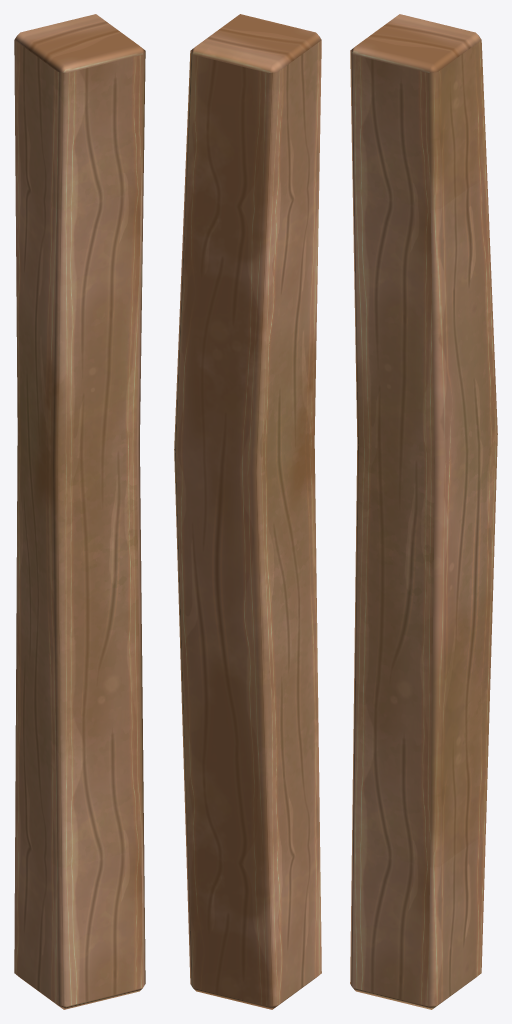
The model's file is SM_Column_03.gltf.
3 views of the same model, side by side, from view 1: azimuth 30°, elevation 25°; view 2: azimuth 150°, elevation 25°; view 3: azimuth 330°, elevation 25° (orthographic).
Parts seen in each view (by area): view 1: SM_Column_03_LOD0; view 2: SM_Column_03_LOD0; view 3: SM_Column_03_LOD0.
Part boxes in pixels (x1,y1,x2,y2): SM_Column_03_LOD0: (14, 14, 145, 1009); SM_Column_03_LOD0: (174, 14, 321, 1009); SM_Column_03_LOD0: (350, 14, 497, 1009).
Size of what is drawn, in the model's own units: 0.3337 by 3.09 by 0.3383.
Materials: 1 (1 with a texture image).
